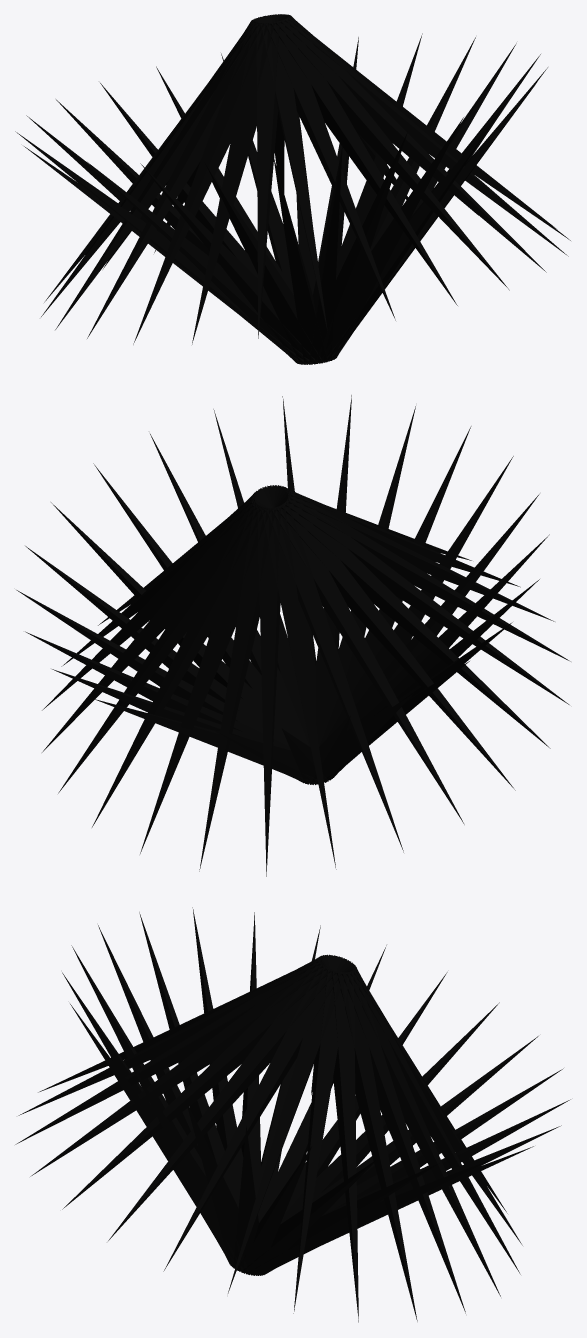
Rendered from VFP.glb.
3 views of the same model, one above another, from view 1: azimuth 30°, elevation 25°; view 2: azimuth 150°, elevation 25°; view 3: azimuth 270°, elevation 25° (orthographic).
Visible parts, largest first — view 1: mesh_id1355, mesh_id1319, mesh_id1345, mesh_id1324, mesh_id1331, mesh_id1348, mesh_id1352, mesh_id1338, mesh_id1317, mesh_id1326, mesh_id398, mesh_id419 (+25 smaller); view 2: mesh_id1354, mesh_id1323, mesh_id1340, mesh_id1326, mesh_id1333, mesh_id1347, mesh_id1337, mesh_id1352, mesh_id1316, mesh_id1330, mesh_id1345, mesh_id1320 (+29 smaller); view 3: mesh_id1320, mesh_id1344, mesh_id1334, mesh_id1341, mesh_id1317, mesh_id1351, mesh_id1330, mesh_id1348, mesh_id1327, mesh_id1337, mesh_id1355, mesh_id1323 (+27 smaller).
Part boxes in pixels (x1,y1,x2,y2): mesh_id1355: (270, 18, 457, 305); mesh_id1319: (192, 22, 275, 344); mesh_id1345: (133, 22, 269, 344); mesh_id1324: (265, 19, 395, 320); mesh_id1331: (256, 21, 279, 338); mesh_id1348: (275, 17, 509, 290); mesh_id1352: (87, 21, 264, 338); mesh_id1338: (260, 20, 327, 332); mesh_id1317: (280, 16, 546, 272); mesh_id1326: (55, 20, 260, 329); mesh_id398: (313, 132, 407, 364); mesh_id419: (140, 163, 318, 363); mesh_id1354: (199, 506, 276, 871); mesh_id1323: (140, 503, 270, 853); mesh_id1340: (271, 500, 464, 824); mesh_id1326: (277, 496, 515, 790); mesh_id1333: (266, 503, 403, 852); mesh_id1347: (257, 508, 280, 876); mesh_id1337: (92, 500, 265, 827); mesh_id1352: (280, 493, 550, 748); mesh_id1316: (262, 506, 336, 869); mesh_id1330: (58, 497, 267, 793); mesh_id1345: (278, 490, 569, 704); mesh_id1320: (42, 493, 268, 752); mesh_id1320: (336, 971, 417, 1321); mesh_id1344: (332, 971, 358, 1322); mesh_id1334: (108, 962, 336, 1240); mesh_id1341: (163, 965, 341, 1271); mesh_id1317: (62, 960, 331, 1209); mesh_id1351: (293, 969, 350, 1313); mesh_id1330: (341, 970, 465, 1313); mesh_id1348: (30, 957, 326, 1176); mesh_id1327: (228, 967, 345, 1293); mesh_id1337: (346, 967, 500, 1296); mesh_id1355: (15, 956, 324, 1144); mesh_id1323: (346, 965, 520, 1274).
Size of the model in its own units: 1.04 by 0.677 by 1.1.
Materials: 48 (48 with a texture image).
